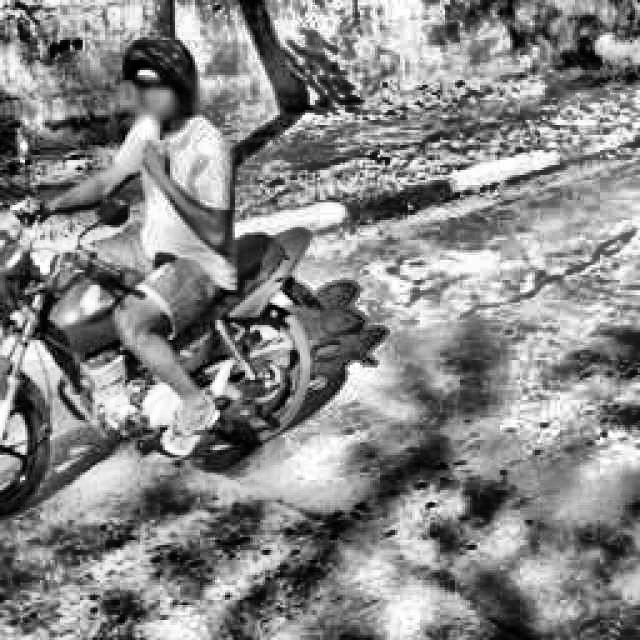motorcycle: (0, 170, 325, 503)
